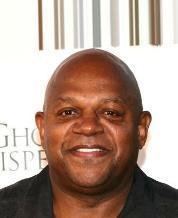face: (57, 97, 120, 161)
